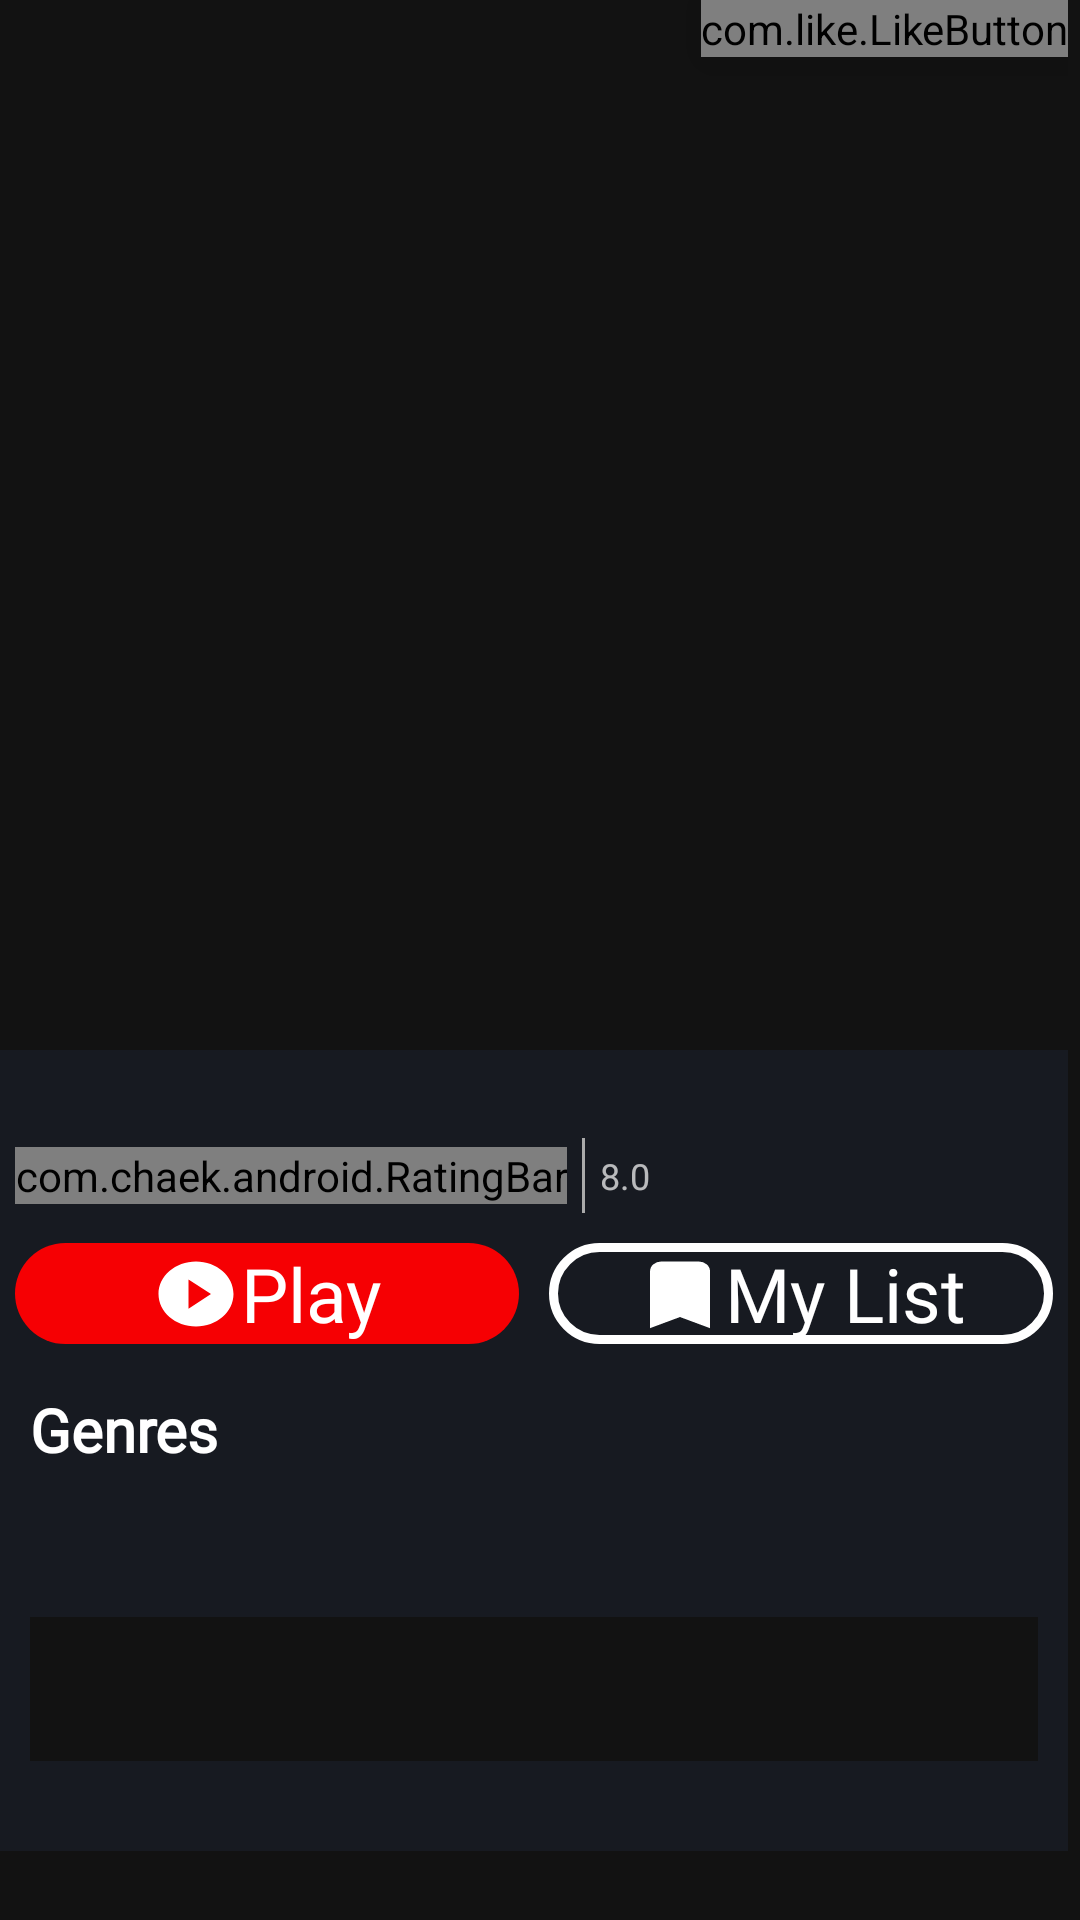

Icons on this 1080 x 1920 Android screen, each with its box as (x1, y1, x2, y2):
bookmark: (650, 1261, 710, 1328)
